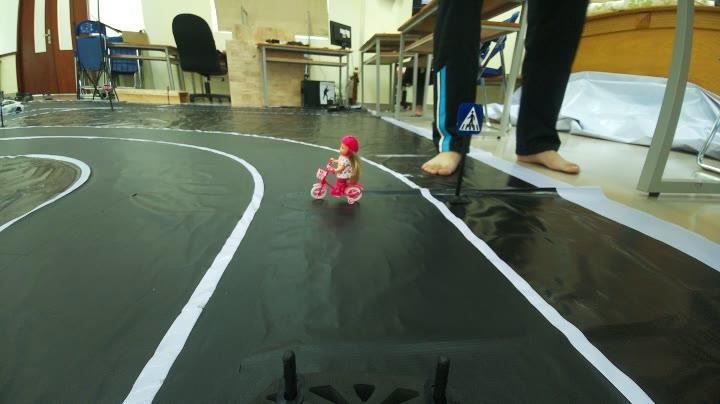crosswalk: (454, 102, 485, 136)
pedestrian: (308, 130, 367, 210)
